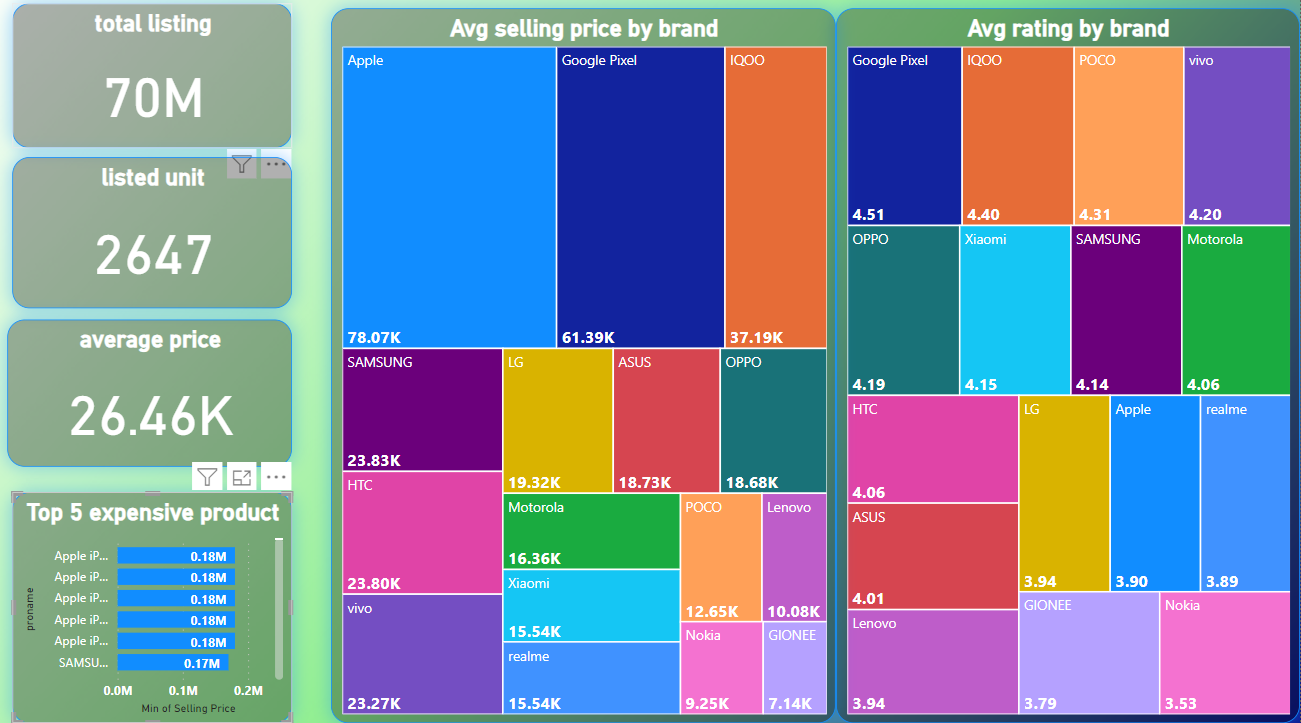

This screenshot's page, from the dashboard's own definition file:
{"tool":"powerbi","page":{"name":"Report 1","canvas":[1280,720],"ordinal":0},"visuals":[{"type":"card","title":"total listing","fields":{"Values":["Sum(Flipkart_mobile_brands_scraped_.Selling Price)"]},"box":[20.8,15.9,273.8,141.8],"z":0},{"type":"card","title":"listed unit","fields":{"Values":["CountNonNull(Flipkart_mobile_brands_scraped_.proname)"]},"box":[20.8,166.2,273.8,147.9],"z":1000},{"type":"card","title":"average price","fields":{"Values":["Avg(Flipkart_mobile_brands_scraped_.Selling Price)"]},"box":[15.9,325.2,278.7,144.2],"z":2000},{"type":"clusteredBarChart","title":"Top 5 profit by product","fields":{"Category":["Flipkart_mobile_brands_scraped_.proname"],"Y":["Min(Flipkart_mobile_brands_scraped_.Selling Price)"]},"box":[20.8,493.9,273.8,226.1],"z":3000},{"type":"treemap","title":"Avg rating by brand","fields":{"Group":["Flipkart_mobile_brands_scraped_.Brand"],"Values":["Avg(Flipkart_mobile_brands_scraped_.Rating)"]},"box":[826.3,20.8,453.5,699.2],"z":4000},{"type":"treemap","title":"Avg selling price by brand","fields":{"Values":["Avg(Flipkart_mobile_brands_scraped_.Selling Price)"],"Group":["Flipkart_mobile_brands_scraped_.Brand"]},"box":[332.5,20.8,493.9,699.2],"z":5000}]}

Visuals, with their boxes in screenshot pixels (x1, y1, x2, y2), scaled from the page's 1280x720 canvas onto the 1301x723 screenshot:
"total listing" card: [left=21, top=16, right=299, bottom=158]
"listed unit" card: [left=21, top=167, right=299, bottom=315]
"average price" card: [left=16, top=327, right=299, bottom=471]
"Top 5 profit by product" clusteredBarChart: [left=21, top=496, right=299, bottom=722]
"Avg rating by brand" treemap: [left=840, top=21, right=1300, bottom=722]
"Avg selling price by brand" treemap: [left=338, top=21, right=840, bottom=722]
